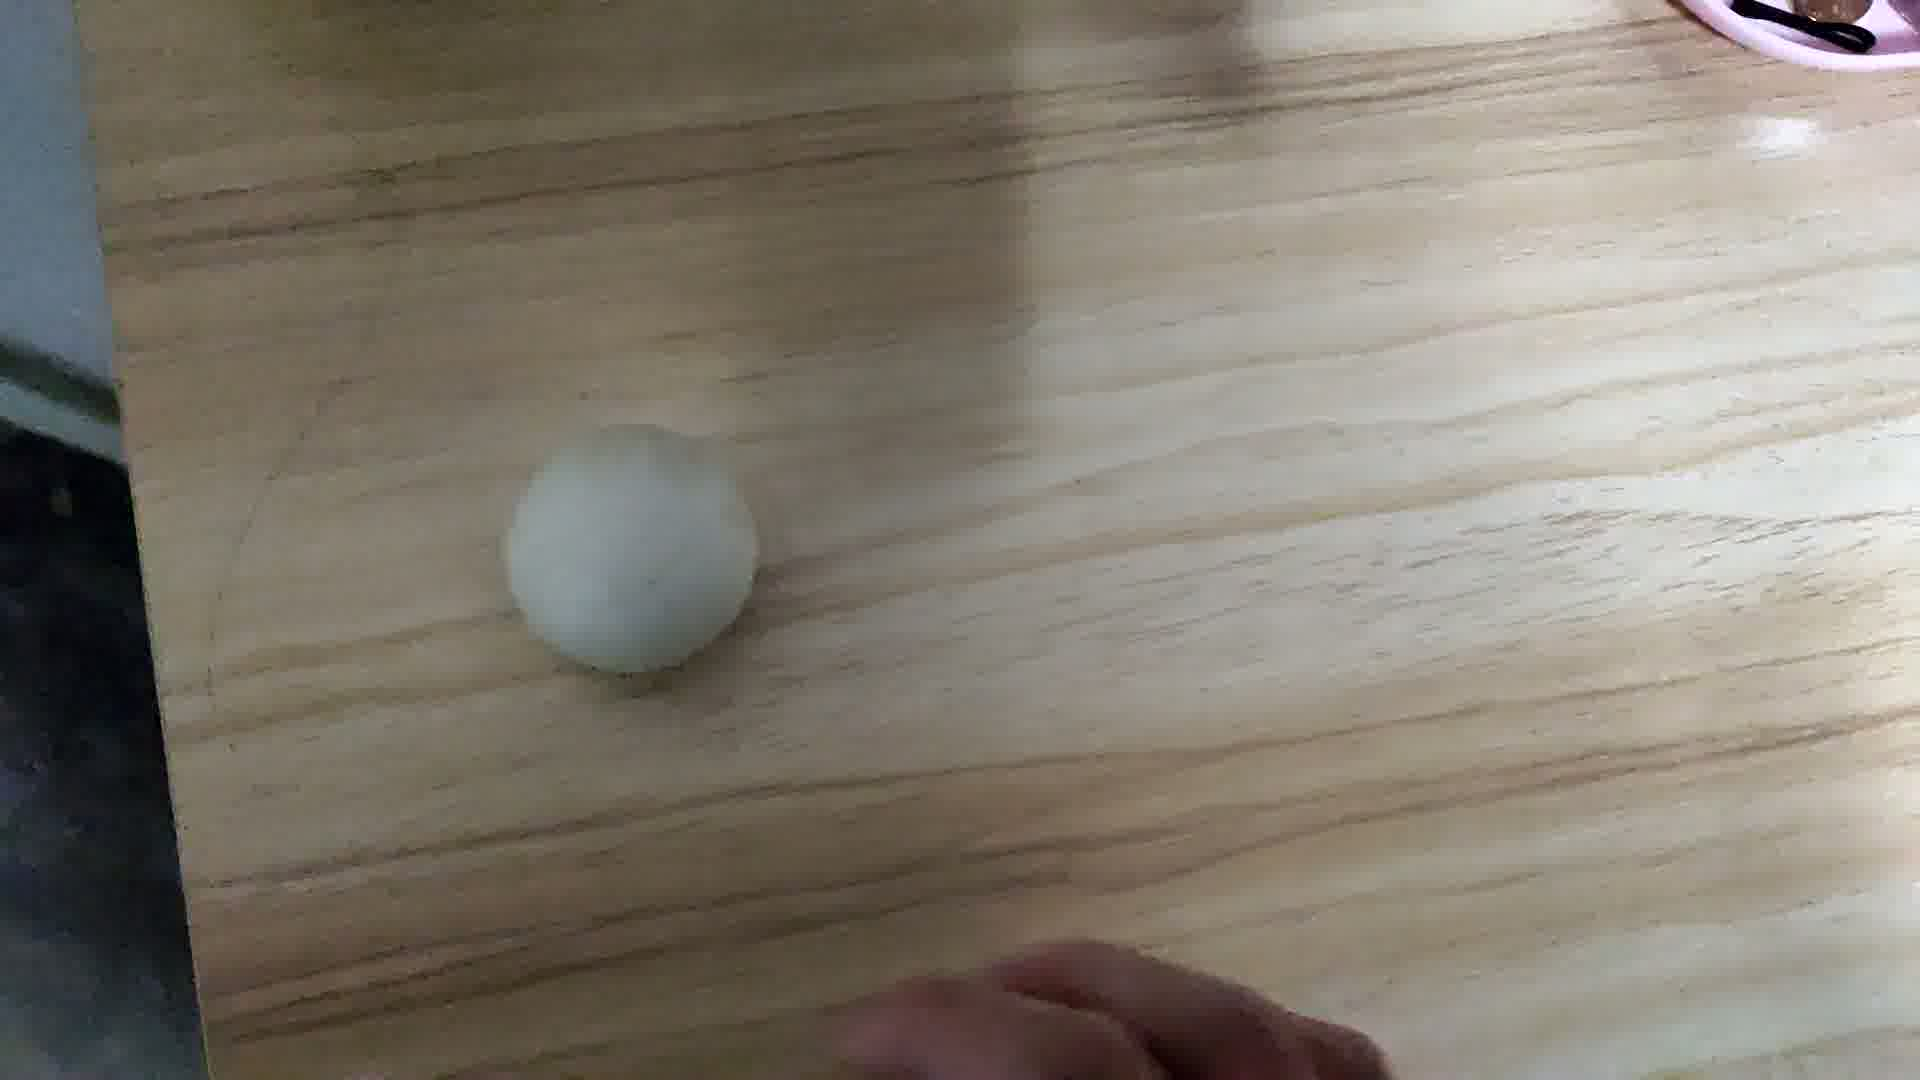Ball: (504, 425, 762, 679)
